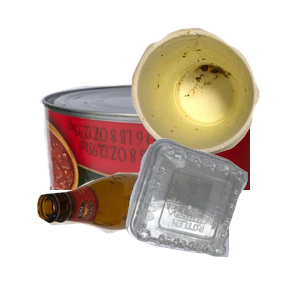glass: (34, 170, 223, 300)
metal: (37, 81, 277, 261)
plastic: (123, 136, 300, 300)
trash: (129, 25, 300, 173)
